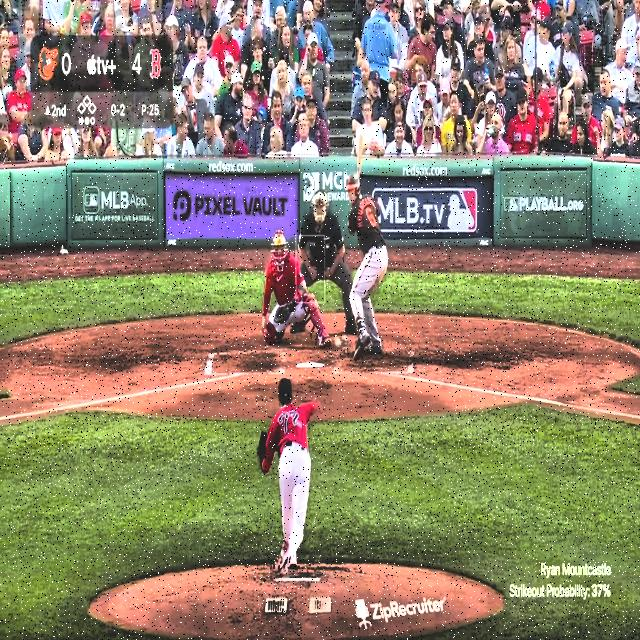baseball: (332, 334, 342, 351)
